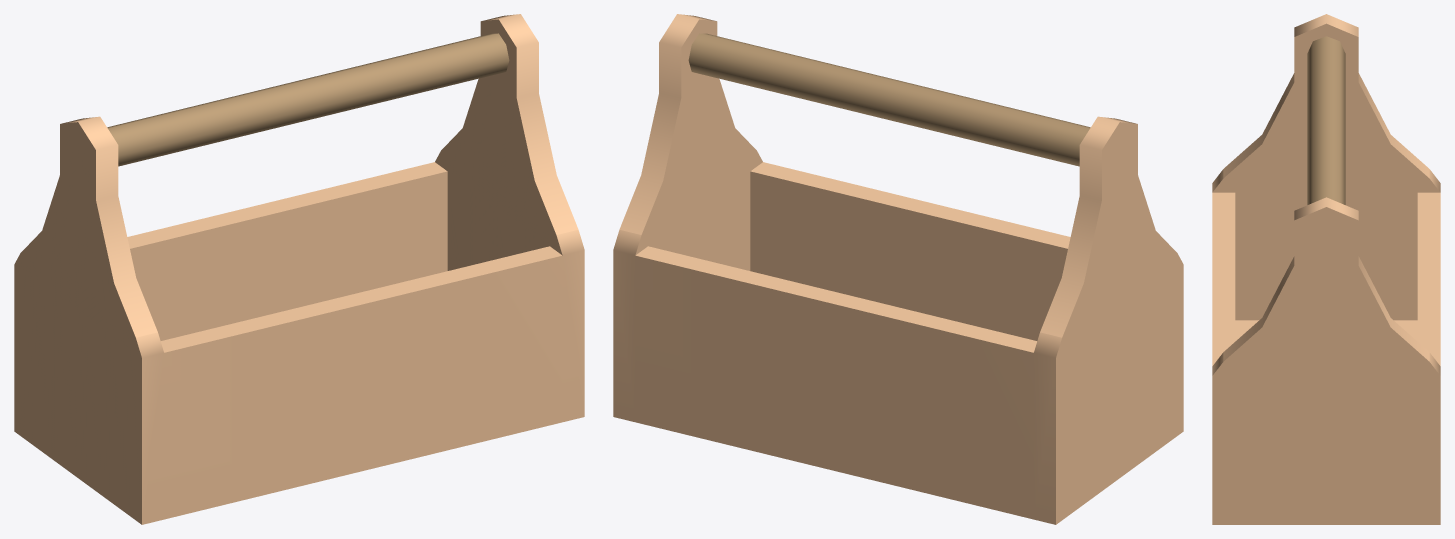
The model's file is Toolbox (1).fbx.
3 renders of one model, left to right at view 1: azimuth 30°, elevation 25°; view 2: azimuth 150°, elevation 25°; view 3: azimuth 270°, elevation 25°, orthographic. The views are drawn at different scales.
Visible parts, largest first — view 1: pCylinder2; view 2: pCylinder2; view 3: pCylinder2.
Boxes of the visible parts, x1=… form: pCylinder2: x1=14, y1=14, x2=584, y2=524; pCylinder2: x1=613, y1=14, x2=1183, y2=524; pCylinder2: x1=1212, y1=14, x2=1440, y2=524.
Size of the model in its own units: 18 by 13.84 by 9.
